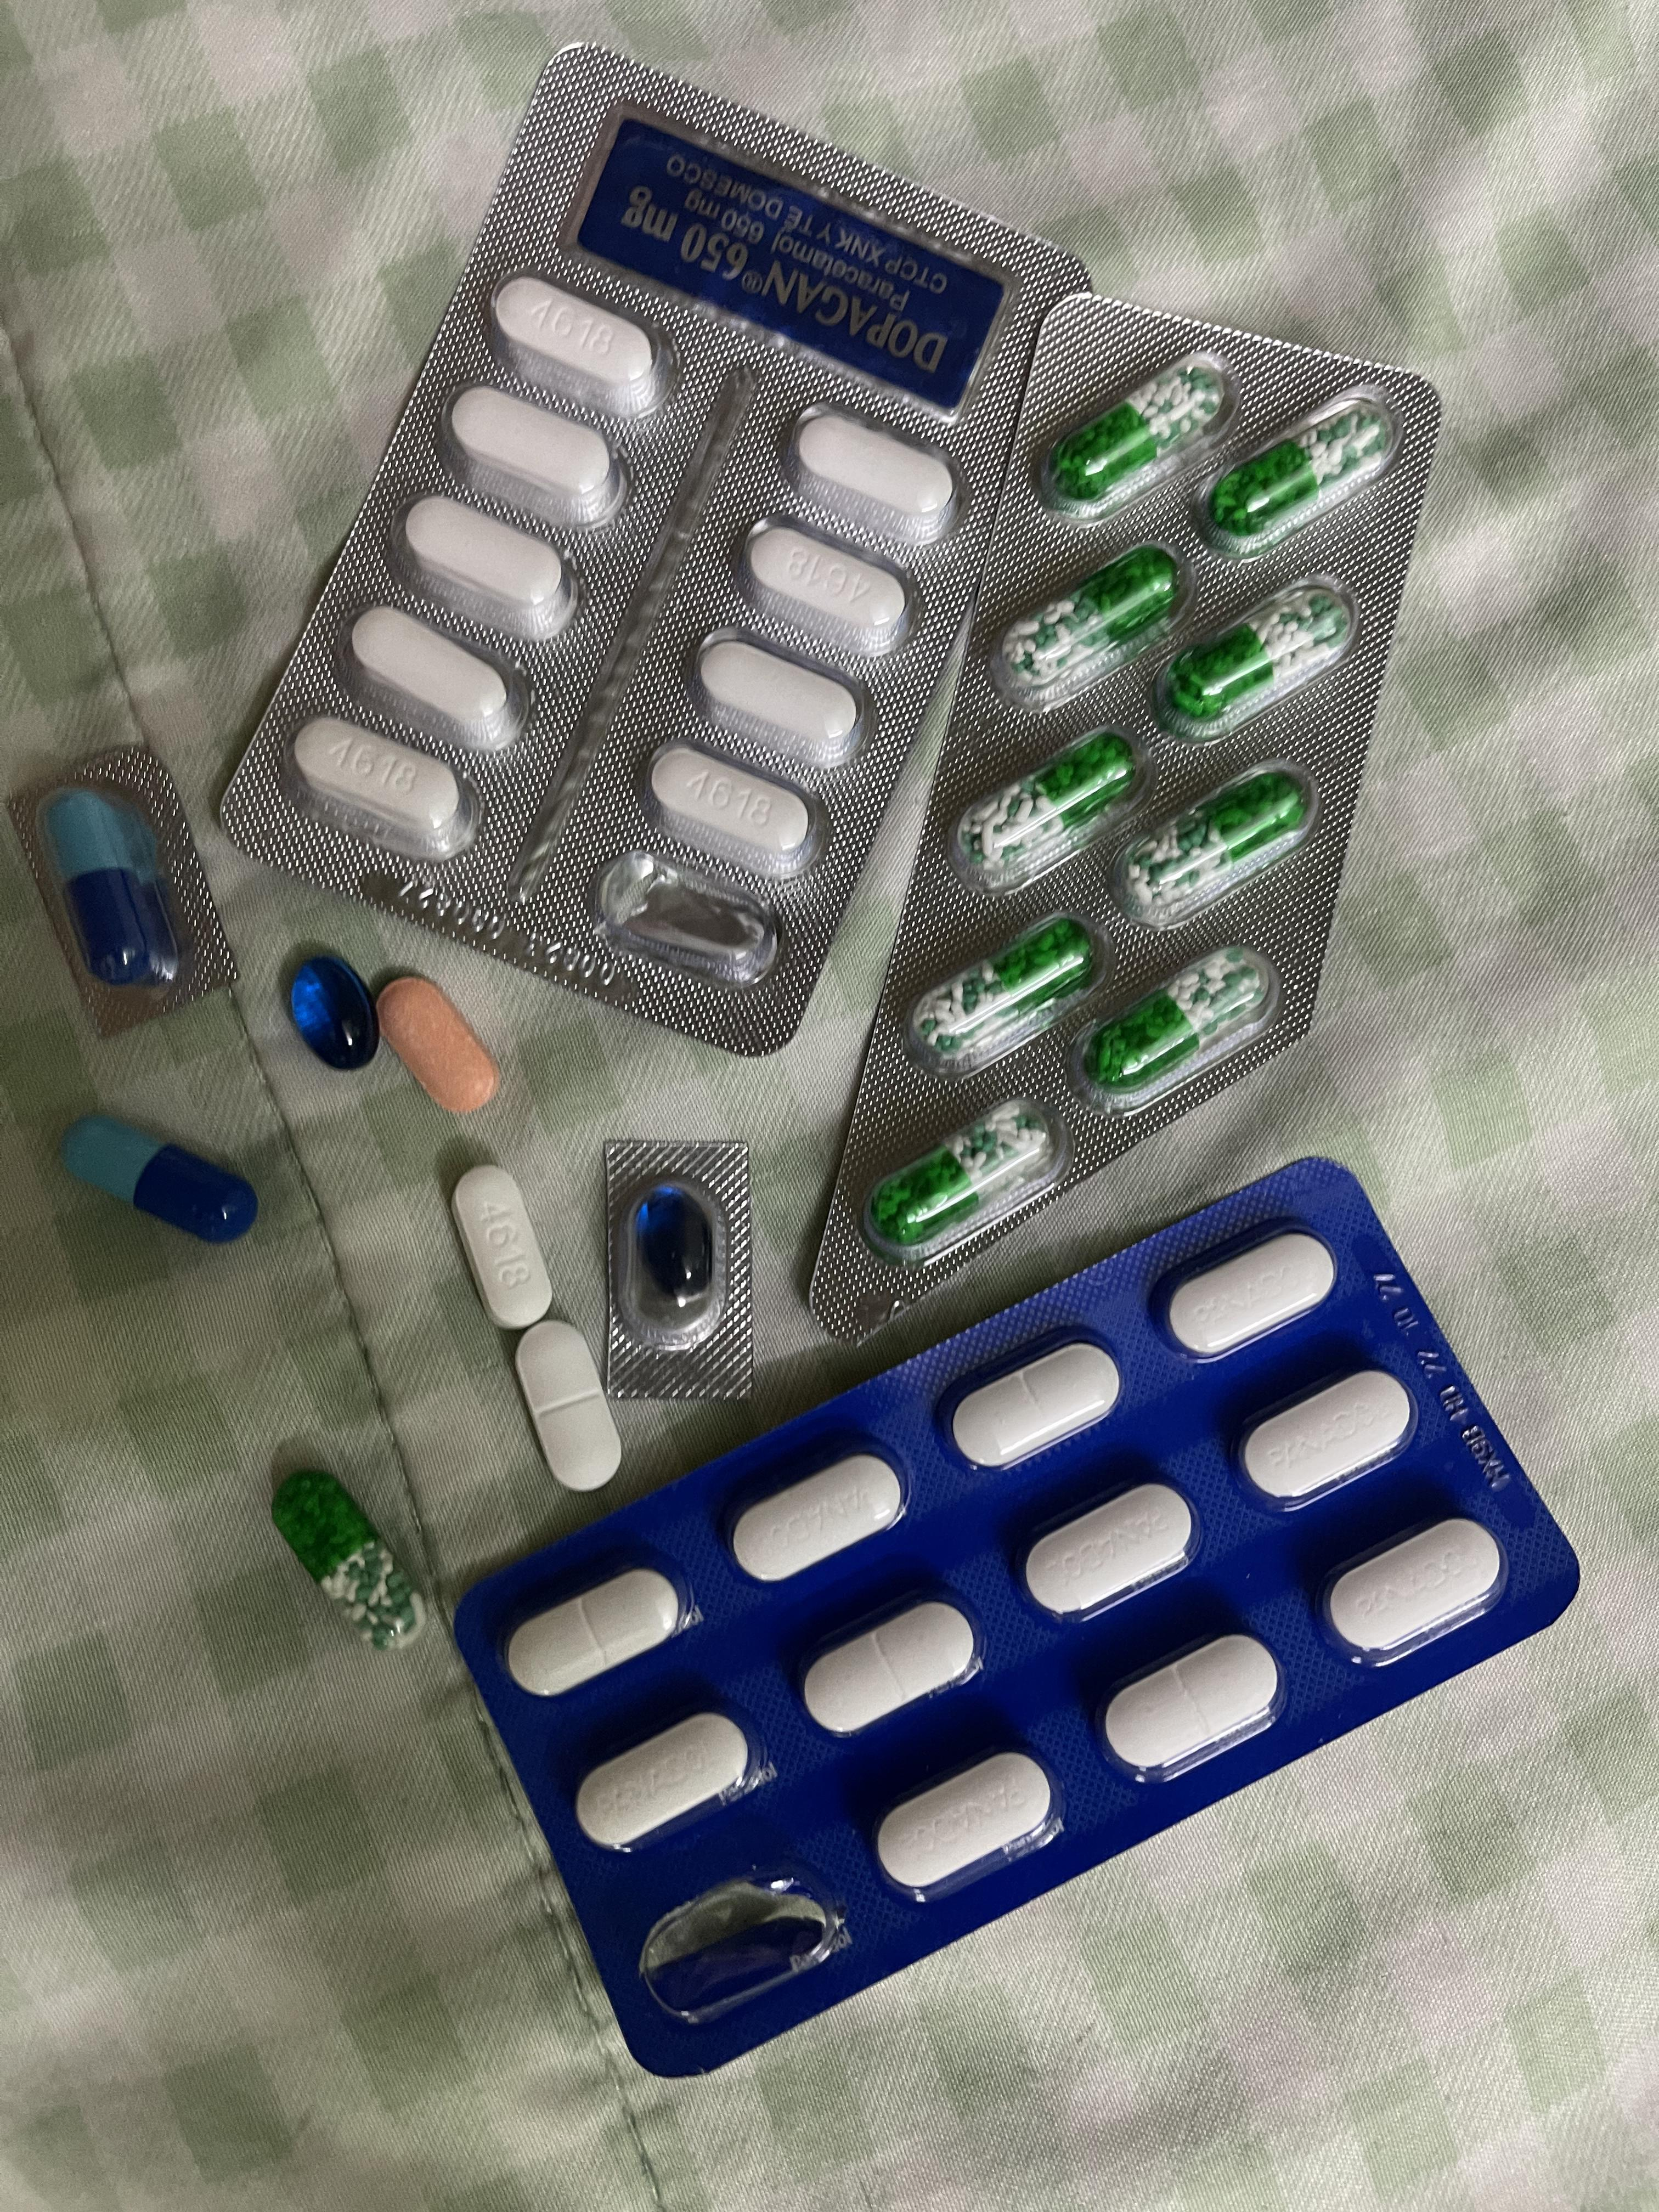Lincomyxin_500mg: (631, 1186, 716, 1320), (289, 954, 385, 1071)
Loratadine_10mg: (376, 975, 498, 1109)
Paracetamol_350mg: (1316, 1514, 1507, 1669), (871, 1743, 1063, 1897), (1098, 1629, 1286, 1784), (796, 1587, 983, 1738), (573, 1705, 758, 1853), (1234, 1364, 1419, 1512), (1016, 1477, 1197, 1627), (939, 1329, 1126, 1468), (725, 1444, 911, 1581), (1154, 1223, 1340, 1359), (504, 1562, 687, 1700), (516, 1322, 626, 1491)
Paracetamol_500mg: (446, 387, 622, 543), (397, 495, 575, 650), (288, 718, 479, 859), (345, 606, 525, 751), (650, 737, 826, 876), (788, 408, 960, 547), (692, 637, 863, 772), (495, 277, 660, 409), (746, 526, 910, 653), (451, 1167, 552, 1325)
Paracetamol_650mg: (270, 1465, 429, 1655), (1117, 765, 1307, 918), (995, 549, 1178, 705), (1159, 590, 1345, 737), (1087, 949, 1269, 1092), (913, 918, 1094, 1061), (1051, 364, 1227, 510), (870, 1108, 1056, 1242), (1208, 404, 1387, 542), (958, 735, 1133, 873)
pill: (47, 791, 178, 989), (63, 1116, 260, 1247)
